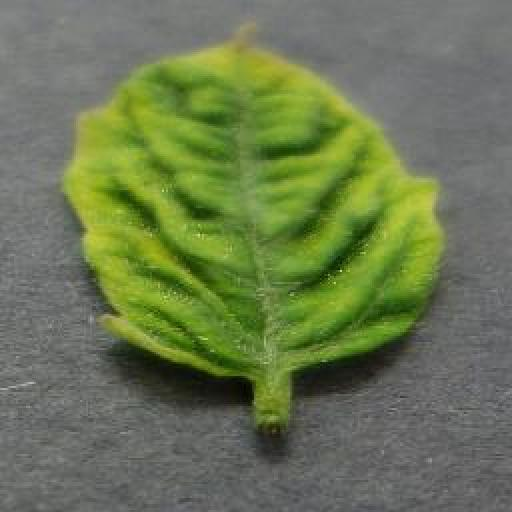Yellow Leaf Curl Virus: (67, 20, 447, 380)
